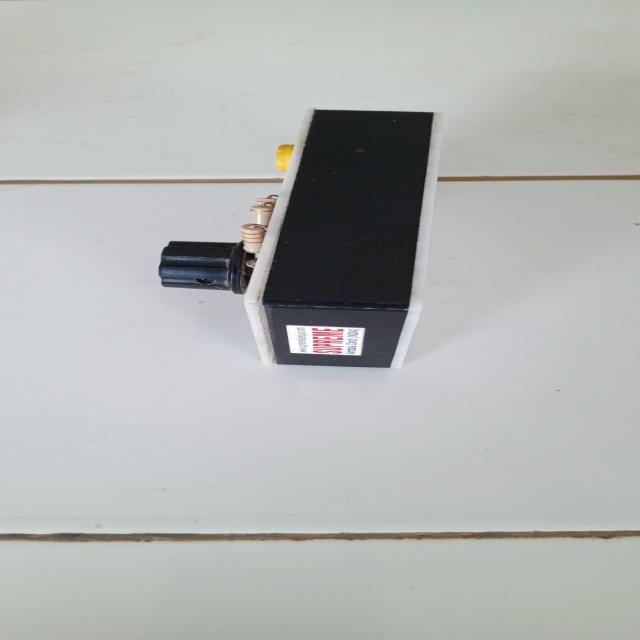Set of Resistances: (119, 98, 472, 387)
